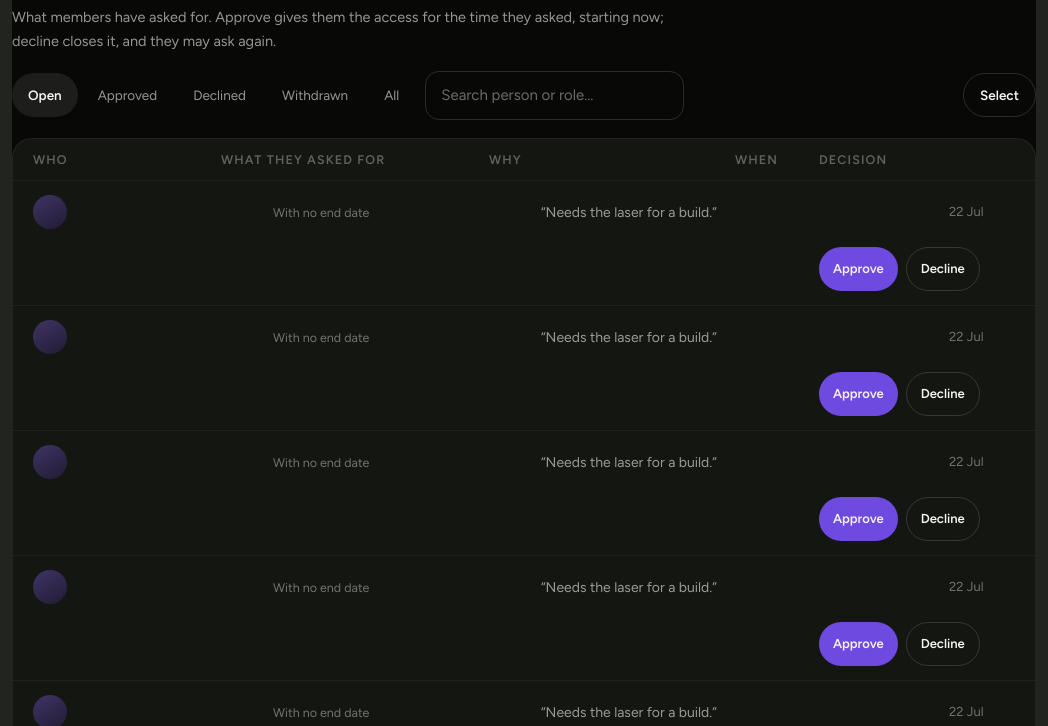
Test: the queue has a visible end › shows the next page on request
The image size is (1048, 726).
Click the button "Select" at (1000,95), box [963,73,1036,117]
(page scrolled)
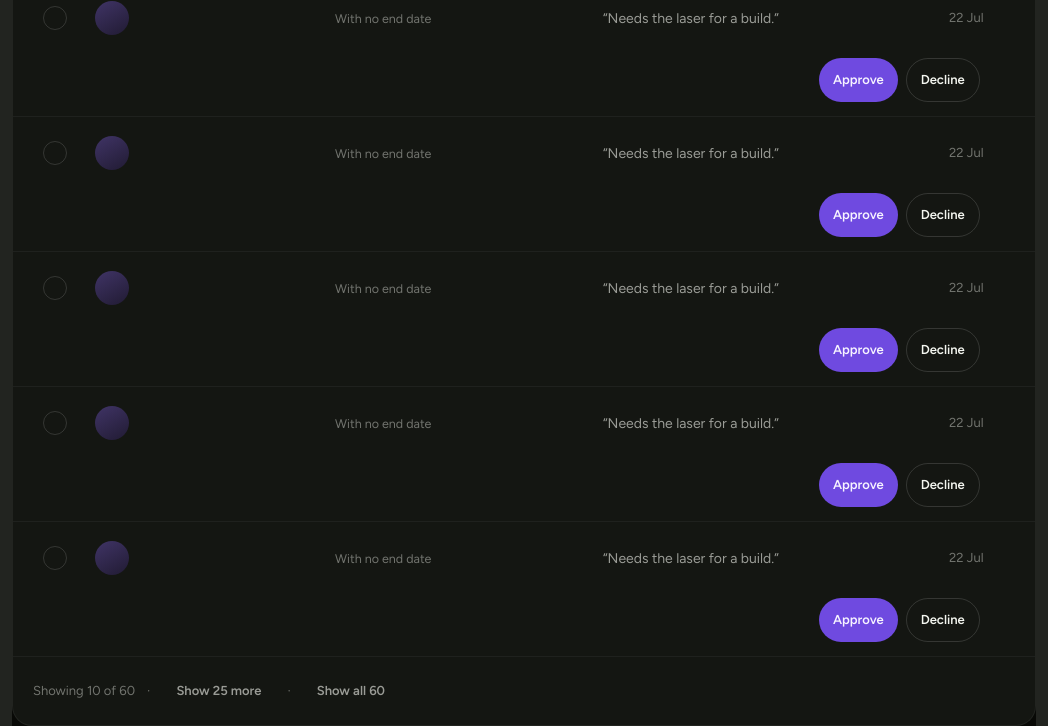
Click the button "Show 25 more" at (219,691), box [162,669,276,713]
(page scrolled)
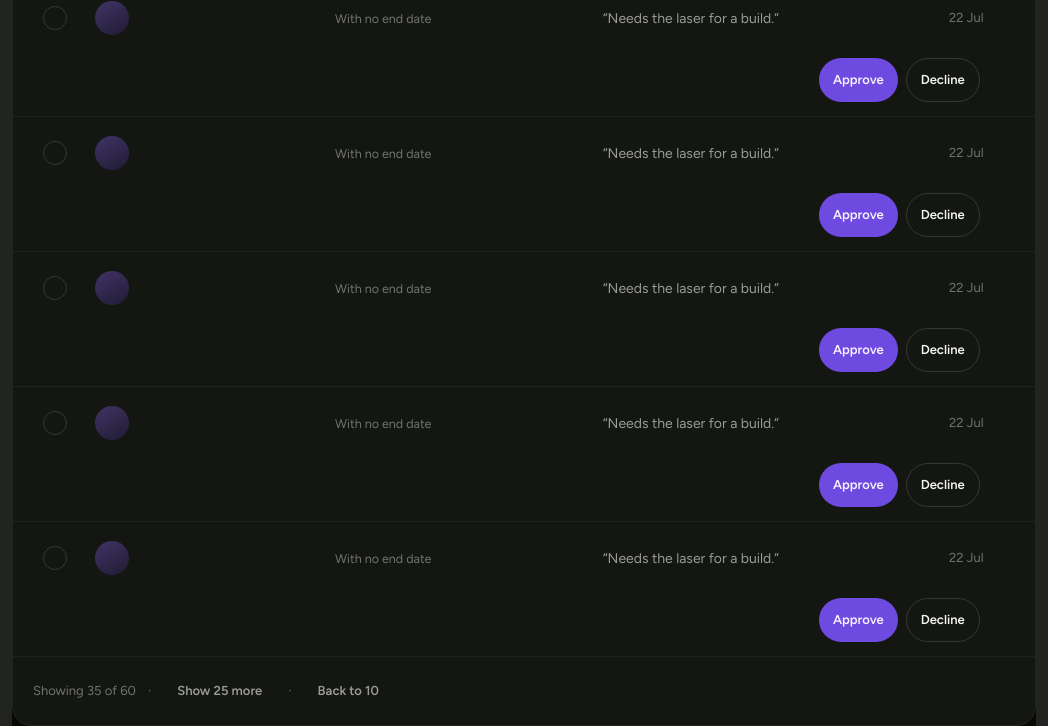
Expected: the text "Showing 35 of 60" is shown, [33,681,136,701]
